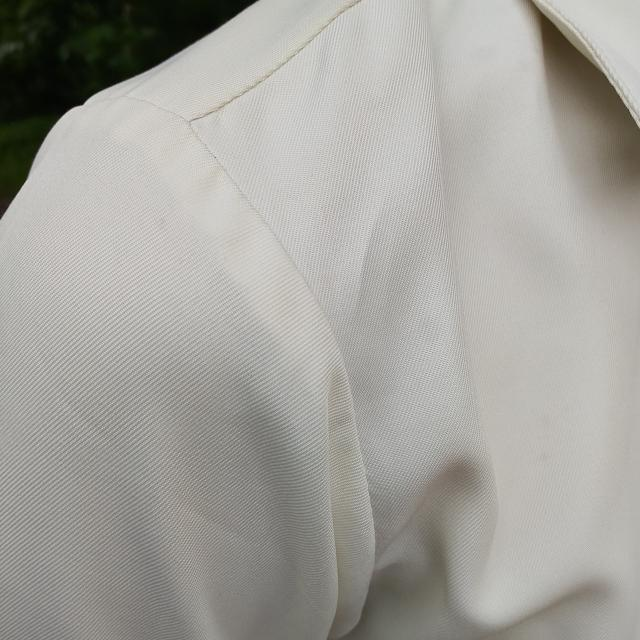education_male_uniform: (9, 9, 640, 640)
